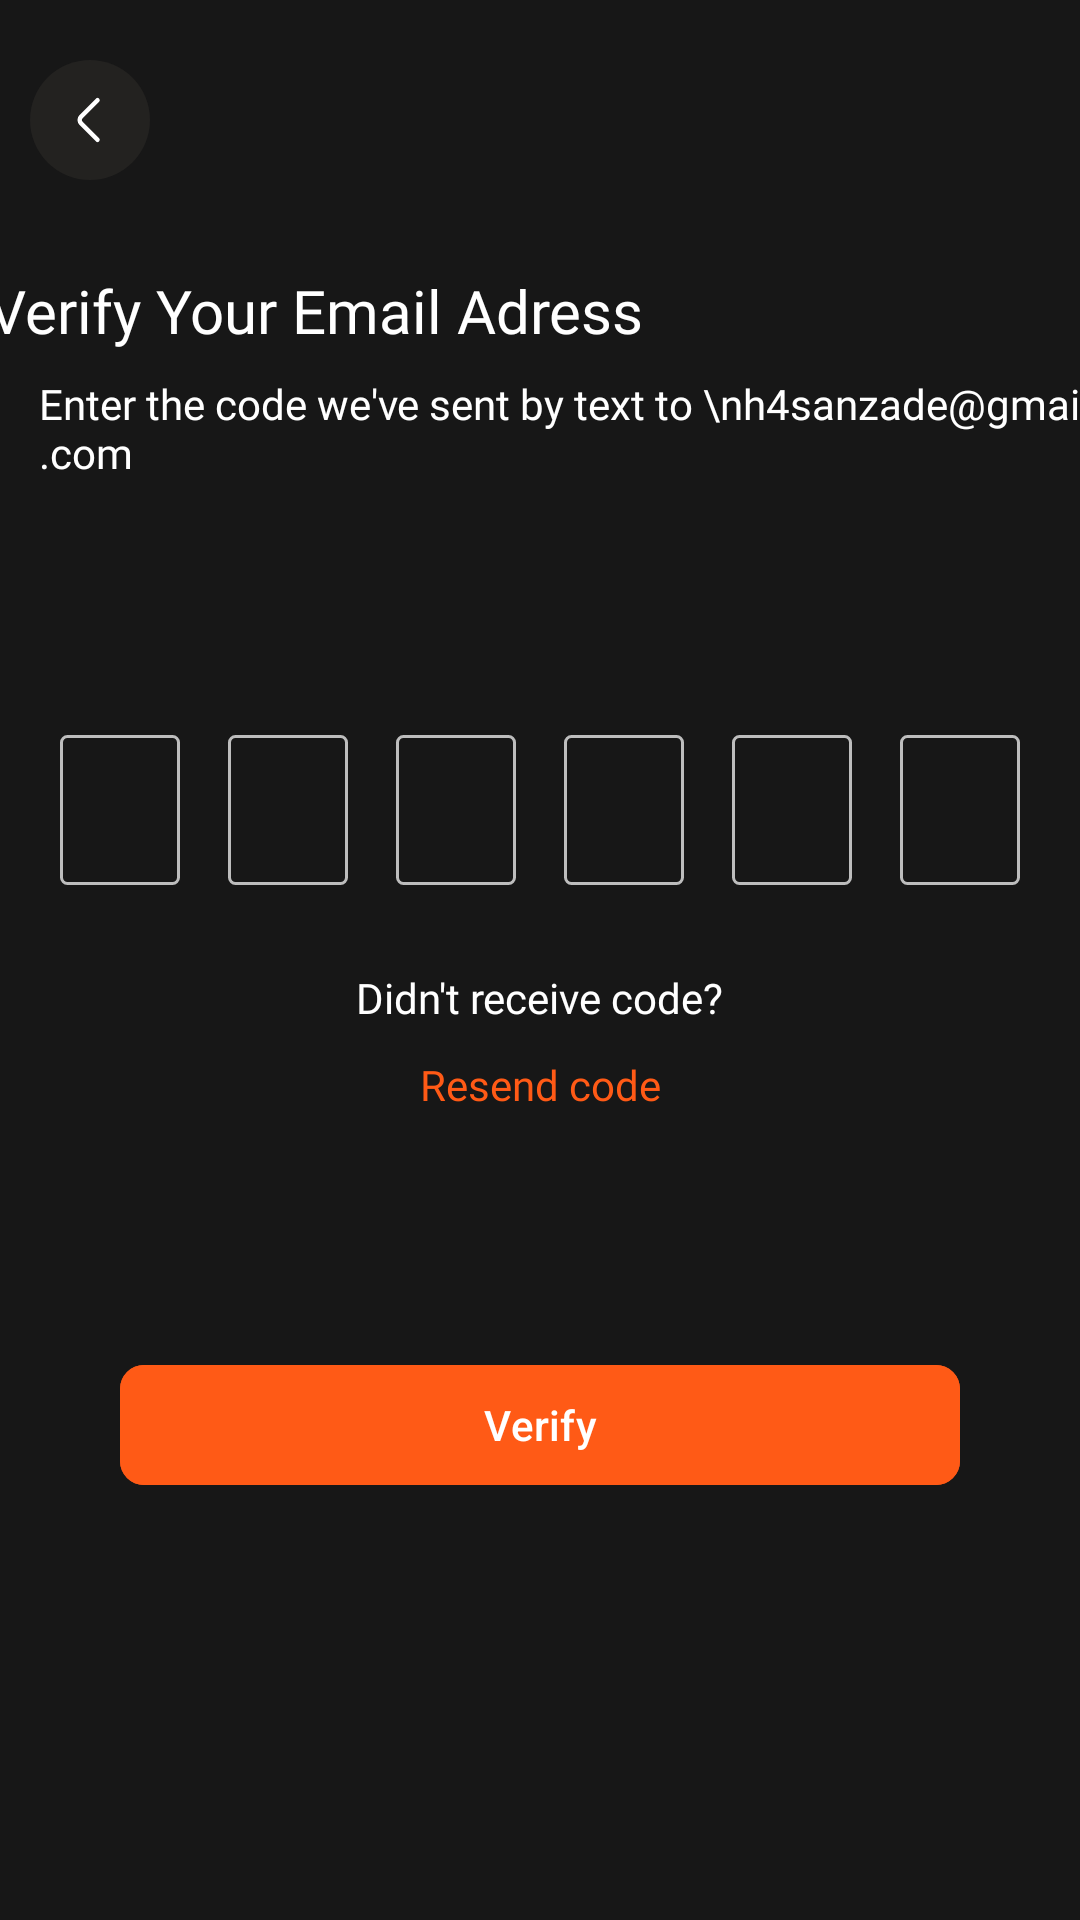

Icons on this 1080 × 1920 Android screen, each with its box as [left=x1, top=y1, right=x2, bottom=y2]:
back: [left=30, top=60, right=150, bottom=180]
